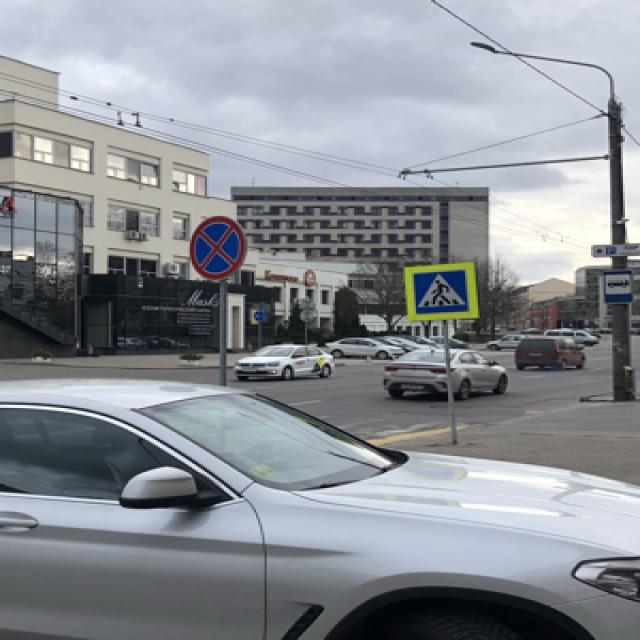crosswalk: (408, 267, 467, 314)
